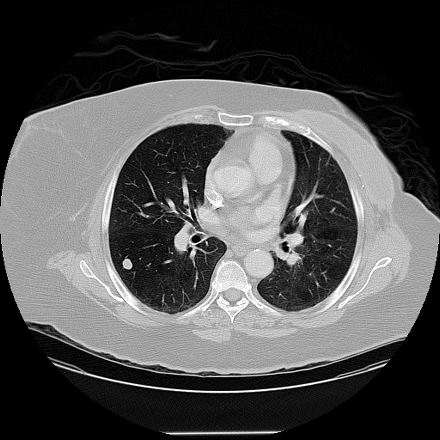nodule: (121, 258, 133, 270)
